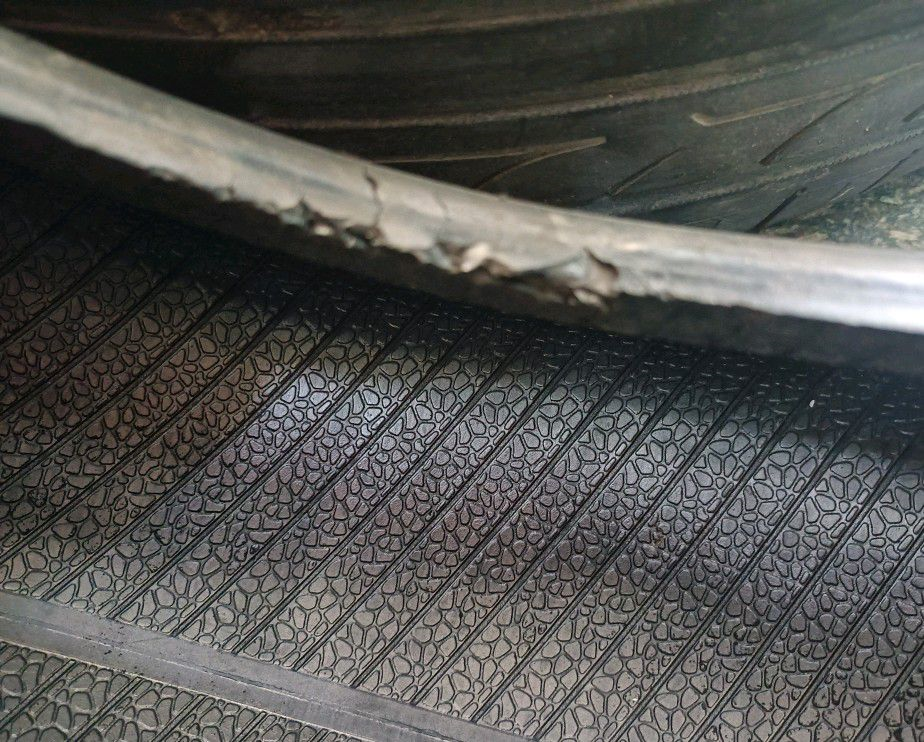bead_damage: (147, 164, 636, 334)
